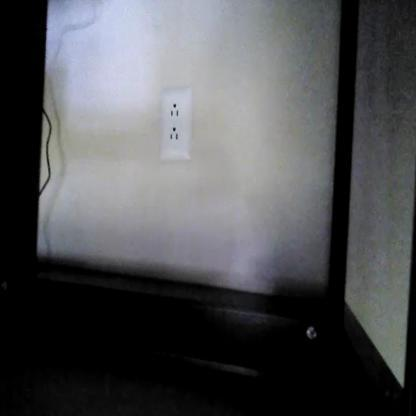OUTLET: (160, 88, 192, 162)
